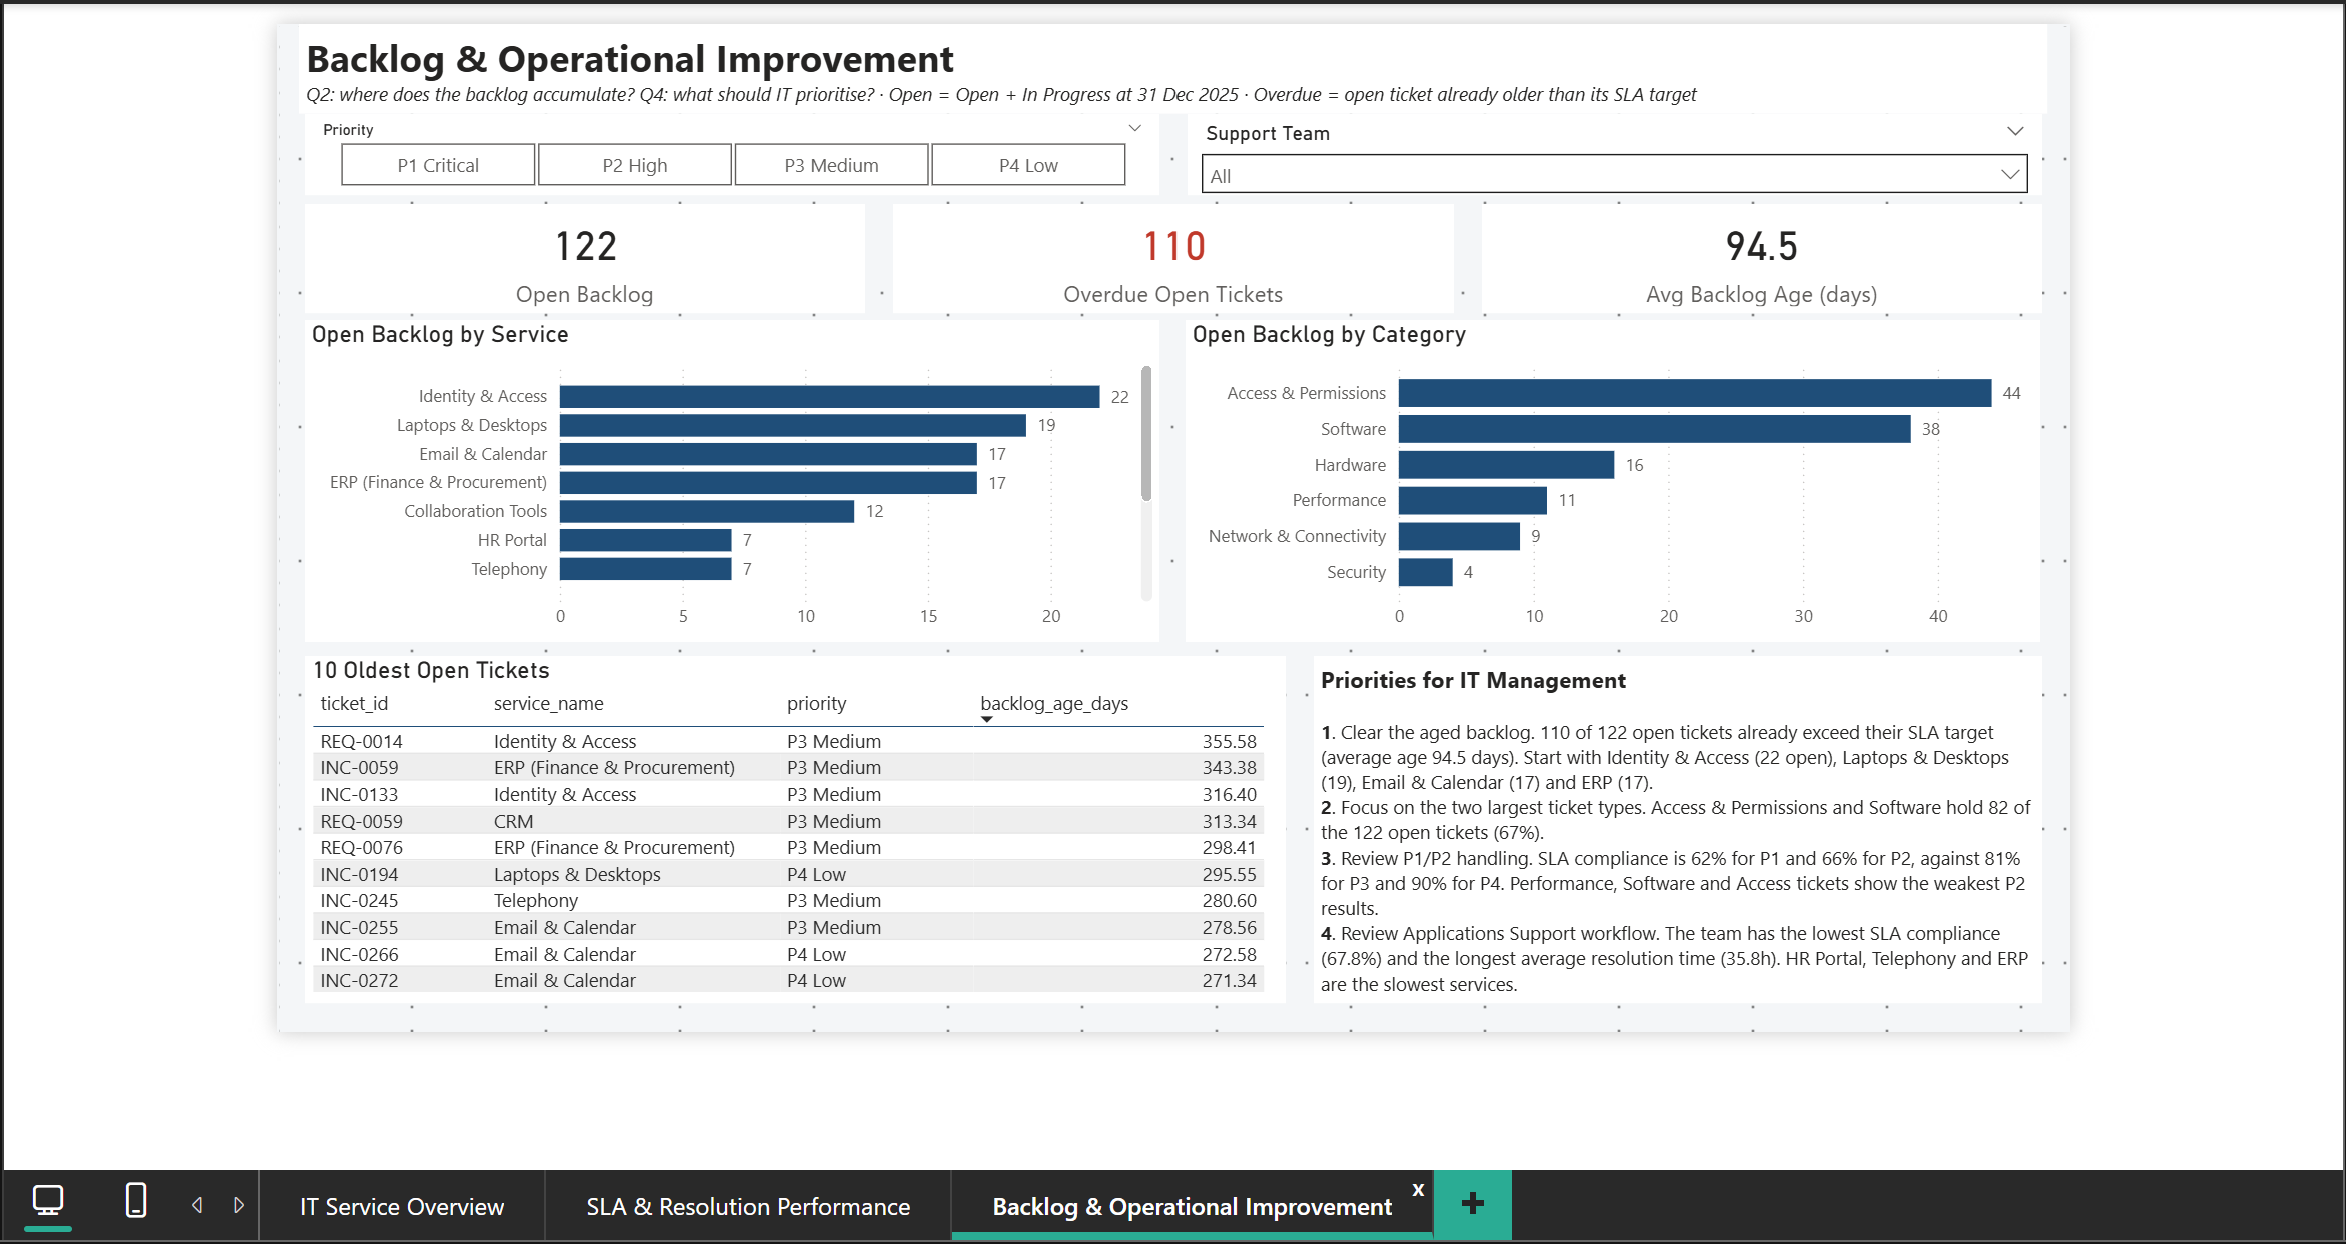

Layout of this report page (visuals, bound fields, positions):
{"tool":"powerbi","page":{"name":"Backlog & Operational Improvement","canvas":[1280,720],"ordinal":2},"visuals":[{"type":"textbox","box":[16,0,1248,64],"z":0},{"type":"slicer","fields":{"Values":["fact_tickets.priority"]},"box":[20,64,610,58],"z":1000},{"type":"slicer","fields":{"Values":["dim_service.support_team"]},"box":[650,64,610,58],"z":2000},{"type":"card","fields":{"Values":["fact_tickets.Open Backlog"]},"box":[20,128,400,78],"z":3000},{"type":"card","fields":{"Values":["fact_tickets.Overdue Open Tickets"]},"box":[440,128,400,78],"z":4000},{"type":"card","fields":{"Values":["fact_tickets.Avg Backlog Age (days)"]},"box":[860,128,400,78],"z":5000},{"type":"clusteredBarChart","title":"Open Backlog by Service","fields":{"Category":["dim_service.service_name"],"Y":["fact_tickets.Open Backlog"]},"box":[20,212,610,230],"z":6000},{"type":"clusteredBarChart","title":"Open Backlog by Category","fields":{"Category":["fact_tickets.category"],"Y":["fact_tickets.Open Backlog"]},"box":[648,212,610,230],"z":7000},{"type":"tableEx","title":"10 Oldest Open Tickets","fields":{"Values":["fact_tickets.ticket_id","dim_service.service_name","fact_tickets.priority","fact_tickets.backlog_age_days"]},"box":[20,452,700,248],"z":8000},{"type":"textbox","box":[740,452,520,248],"z":9000}]}

Visuals, with their boxes on the page's 1280x720 design canvas (x1, y1, x2, y2). These are canvas units, not pixel positions in the 2346x1244 screenshot, which may show the page scaled, cropped or inside an application window:
textbox: region(16, 0, 1264, 64)
slicer - fact_tickets.priority: region(20, 64, 630, 122)
slicer - dim_service.support_team: region(650, 64, 1260, 122)
card - fact_tickets.Open Backlog: region(20, 128, 420, 206)
card - fact_tickets.Overdue Open Tickets: region(440, 128, 840, 206)
card - fact_tickets.Avg Backlog Age (days): region(860, 128, 1260, 206)
"Open Backlog by Service" clusteredBarChart: region(20, 212, 630, 442)
"Open Backlog by Category" clusteredBarChart: region(648, 212, 1258, 442)
"10 Oldest Open Tickets" tableEx: region(20, 452, 720, 700)
textbox: region(740, 452, 1260, 700)
